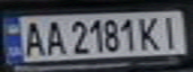1: (118, 16, 139, 52), (87, 17, 106, 54)
2: (66, 17, 90, 55)
8: (103, 16, 124, 53)
A: (18, 18, 48, 57), (39, 18, 66, 56)
I: (157, 14, 184, 50)
K: (136, 15, 163, 51)
